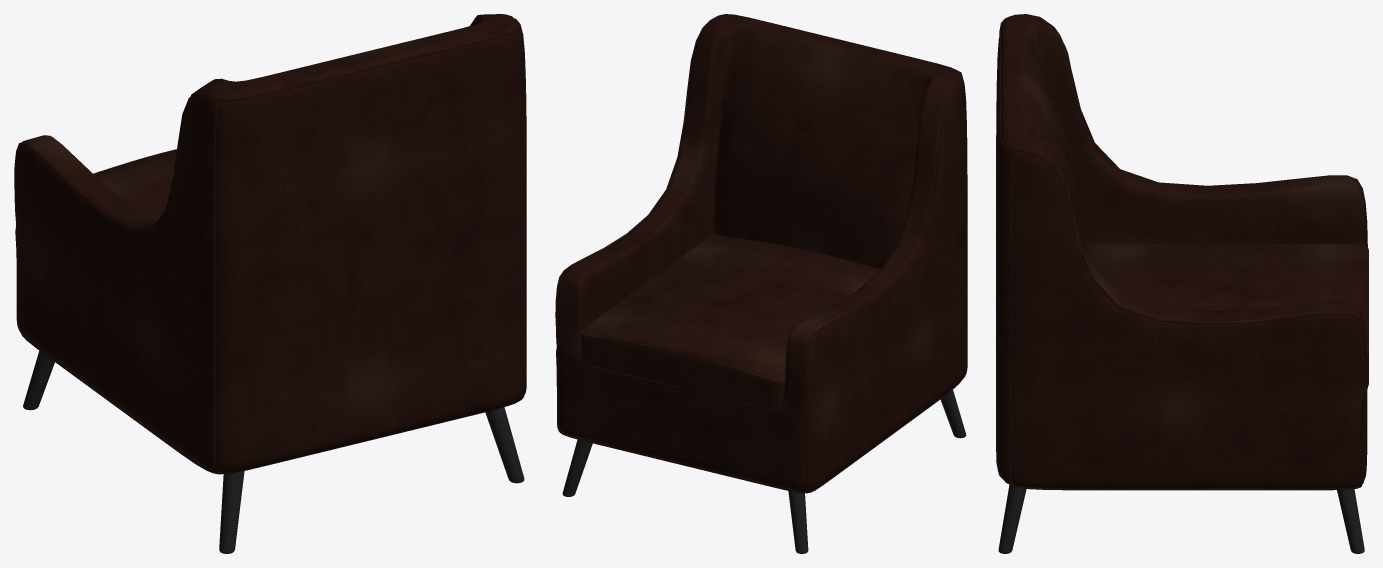
File: armchair-leather.glb
The picture shows the model from 3 angles, left to right: view 1: azimuth 30°, elevation 25°; view 2: azimuth 150°, elevation 25°; view 3: azimuth 270°, elevation 25°; orthographic projection. The views are drawn at different scales.
Visible parts, largest first — view 1: Cube_003_Material_0; view 2: Cube_003_Material_0; view 3: Cube_003_Material_0.
Part boxes in pixels (box(x1,y1,x2,y2)): Cube_003_Material_0: box(14, 14, 526, 553); Cube_003_Material_0: box(555, 14, 967, 553); Cube_003_Material_0: box(996, 14, 1368, 553).
Size of the model in its own units: 0.9 by 1.22 by 1.01.
1 material, 1 textured.
